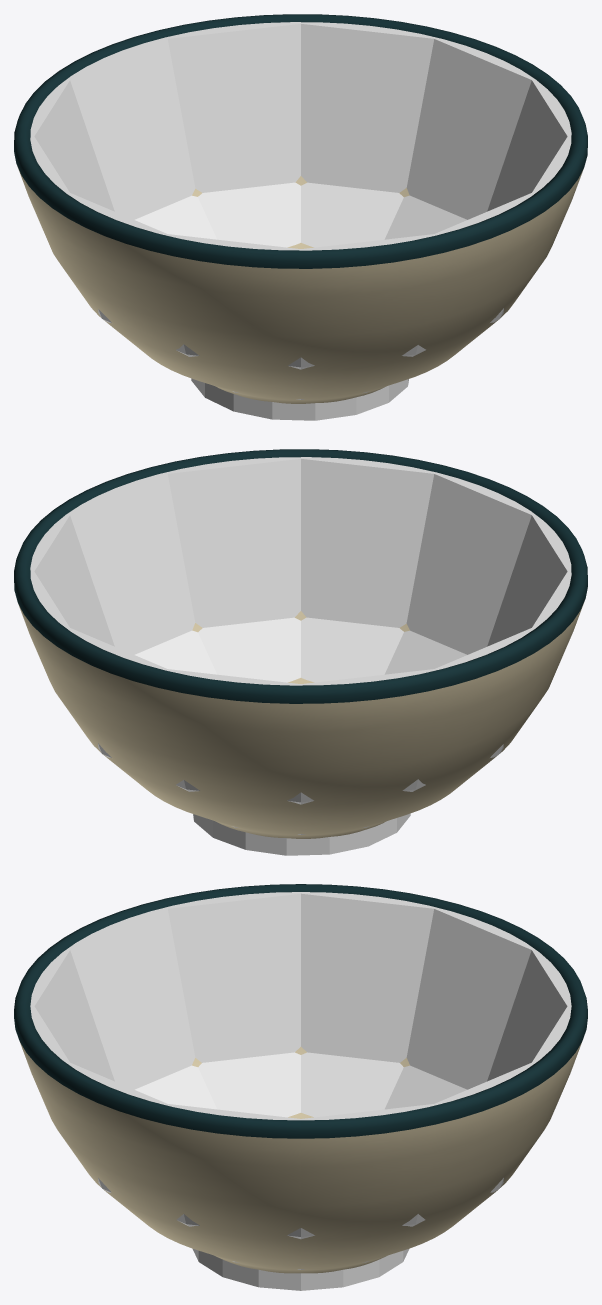
The model's file is DishBowl.fbx.
The picture shows the model from 3 angles, top to bottom: view 1: azimuth 30°, elevation 25°; view 2: azimuth 150°, elevation 25°; view 3: azimuth 270°, elevation 25°; orthographic projection.
Parts seen in each view (by area): view 1: DishBowl, COL_DishBowl_Wall_02_03, COL_DishBowl_Wall_02_02, COL_DishBowl_Wall_02_04, COL_DishBowl_Wall_02_01, COL_DishBowl_Wall_01_03, COL_DishBowl_Wall_01_02, COL_DishBowl_Wall_02_05, COL_DishBowl_Wall_02_12, COL_DishBowl_Base, COL_DishBowl_Wall_01_04, COL_DishBowl_Wall_01_01 (+6 smaller); view 2: DishBowl, COL_DishBowl_Wall_02_10, COL_DishBowl_Wall_02_11, COL_DishBowl_Wall_02_09, COL_DishBowl_Wall_02_12, COL_DishBowl_Wall_01_10, COL_DishBowl_Wall_01_11, COL_DishBowl_Wall_02_08, COL_DishBowl_Wall_02_01, COL_DishBowl_Base, COL_DishBowl_Wall_01_09, COL_DishBowl_Wall_01_12 (+6 smaller); view 3: DishBowl, COL_DishBowl_Wall_02_06, COL_DishBowl_Wall_02_07, COL_DishBowl_Wall_02_05, COL_DishBowl_Wall_02_08, COL_DishBowl_Wall_01_06, COL_DishBowl_Wall_01_07, COL_DishBowl_Wall_02_04, COL_DishBowl_Wall_02_09, COL_DishBowl_Base, COL_DishBowl_Wall_01_05, COL_DishBowl_Wall_01_08 (+6 smaller).
Boxes of the visible parts, x1,y1,x2,y2 form: DishBowl: [14, 14, 587, 403]; COL_DishBowl_Wall_02_03: [166, 22, 300, 192]; COL_DishBowl_Wall_02_02: [301, 22, 435, 192]; COL_DishBowl_Wall_02_04: [67, 37, 195, 219]; COL_DishBowl_Wall_02_01: [406, 37, 534, 219]; COL_DishBowl_Wall_01_03: [198, 182, 300, 247]; COL_DishBowl_Wall_01_02: [301, 182, 403, 247]; COL_DishBowl_Wall_02_05: [30, 79, 114, 211]; COL_DishBowl_Wall_02_12: [487, 79, 571, 211]; COL_DishBowl_Base: [191, 378, 408, 420]; COL_DishBowl_Wall_01_04: [135, 195, 217, 239]; COL_DishBowl_Wall_01_01: [384, 195, 466, 239]; DishBowl: [14, 449, 587, 838]; COL_DishBowl_Wall_02_10: [301, 457, 435, 627]; COL_DishBowl_Wall_02_11: [166, 457, 300, 627]; COL_DishBowl_Wall_02_09: [406, 472, 534, 654]; COL_DishBowl_Wall_02_12: [67, 472, 195, 654]; COL_DishBowl_Wall_01_10: [301, 617, 403, 682]; COL_DishBowl_Wall_01_11: [198, 617, 300, 682]; COL_DishBowl_Wall_02_08: [487, 514, 571, 646]; COL_DishBowl_Wall_02_01: [30, 514, 114, 646]; COL_DishBowl_Base: [193, 813, 410, 855]; COL_DishBowl_Wall_01_09: [384, 630, 466, 674]; COL_DishBowl_Wall_01_12: [135, 630, 217, 674]; DishBowl: [14, 884, 587, 1273]; COL_DishBowl_Wall_02_06: [301, 892, 435, 1062]; COL_DishBowl_Wall_02_07: [166, 892, 300, 1062]; COL_DishBowl_Wall_02_05: [406, 907, 534, 1089]; COL_DishBowl_Wall_02_08: [67, 907, 195, 1089]; COL_DishBowl_Wall_01_06: [301, 1052, 403, 1117]; COL_DishBowl_Wall_01_07: [198, 1052, 300, 1117]; COL_DishBowl_Wall_02_04: [487, 949, 571, 1081]; COL_DishBowl_Wall_02_09: [30, 949, 114, 1081]; COL_DishBowl_Base: [192, 1249, 409, 1290]; COL_DishBowl_Wall_01_05: [385, 1065, 466, 1109]; COL_DishBowl_Wall_01_08: [135, 1065, 216, 1109].
Bounding box in the file's own units: 0.14 × 0.065 × 0.14.
Materials: 2 (2 with a texture image).
